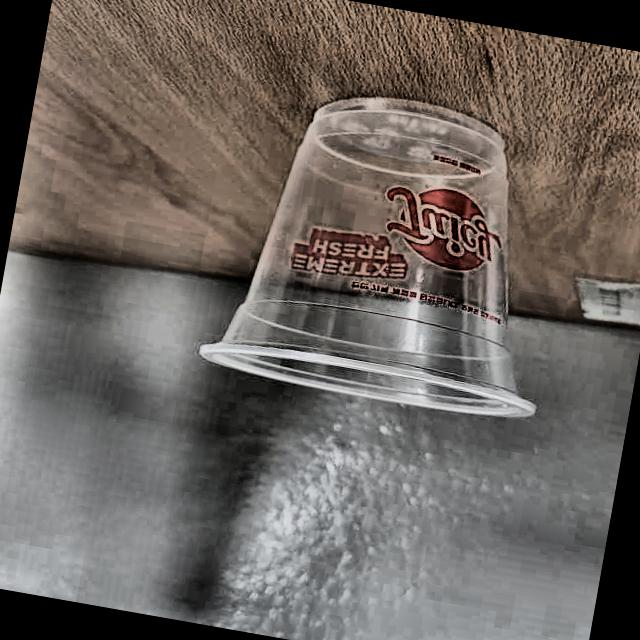plastic cup: (192, 71, 583, 429)
